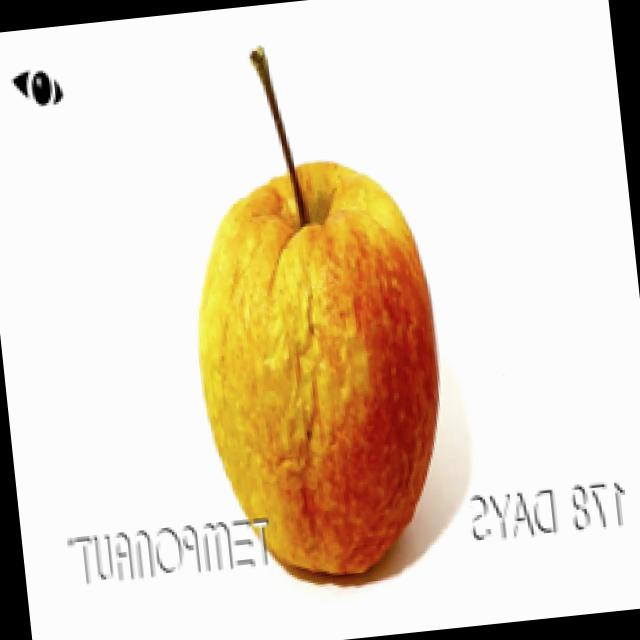Rotten_Apple: (156, 0, 464, 599)
